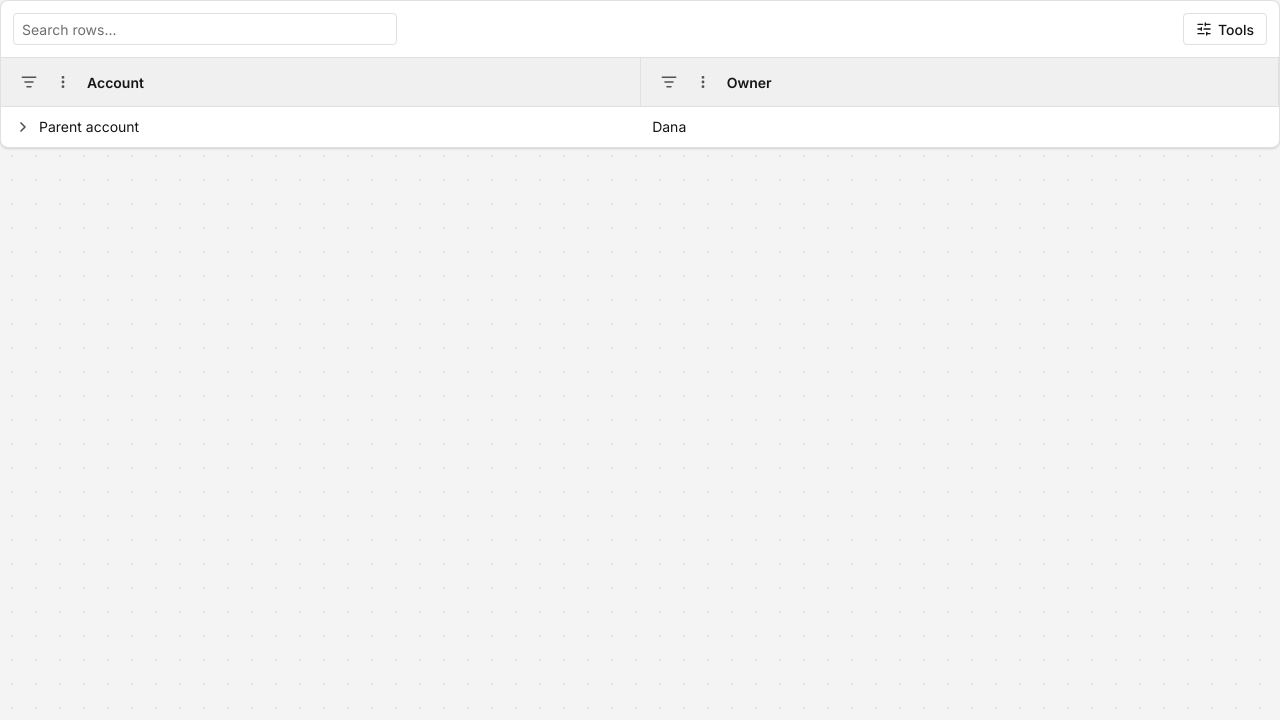
Test case: DataGrid tree data › expands nested rows independently of grouping
The image size is (1280, 720).
Expected: the text "Parent account" is shown, [39,116,139,137]
Expected: the text "Child account" is not shown
Click the button named "Expand Parent account": x=23, y=127 [13,117,33,137]
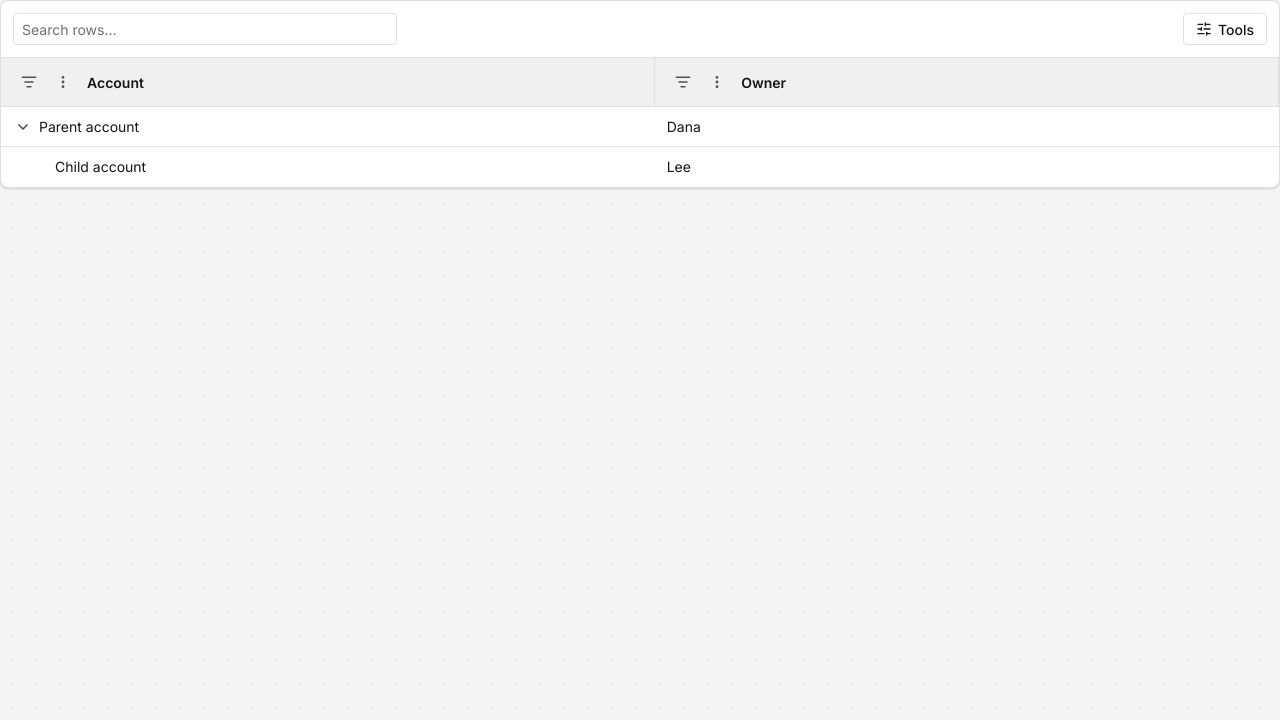
Expected: the text "Child account" is shown, [55,156,146,177]
